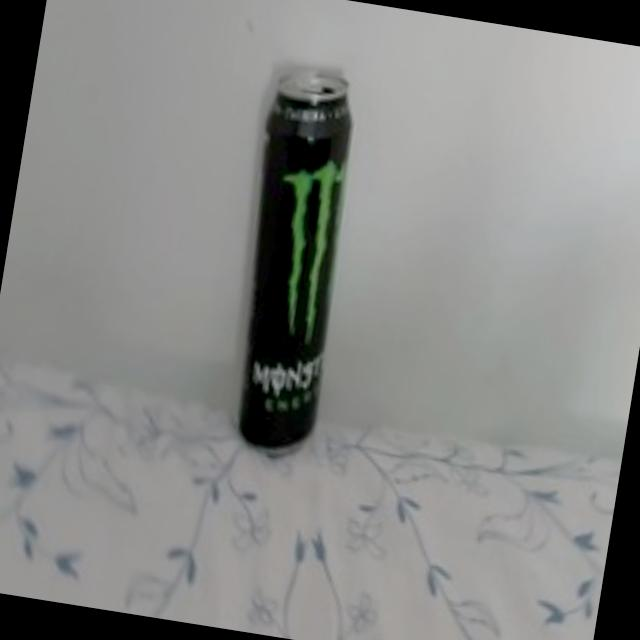Metal: (209, 61, 388, 467)
